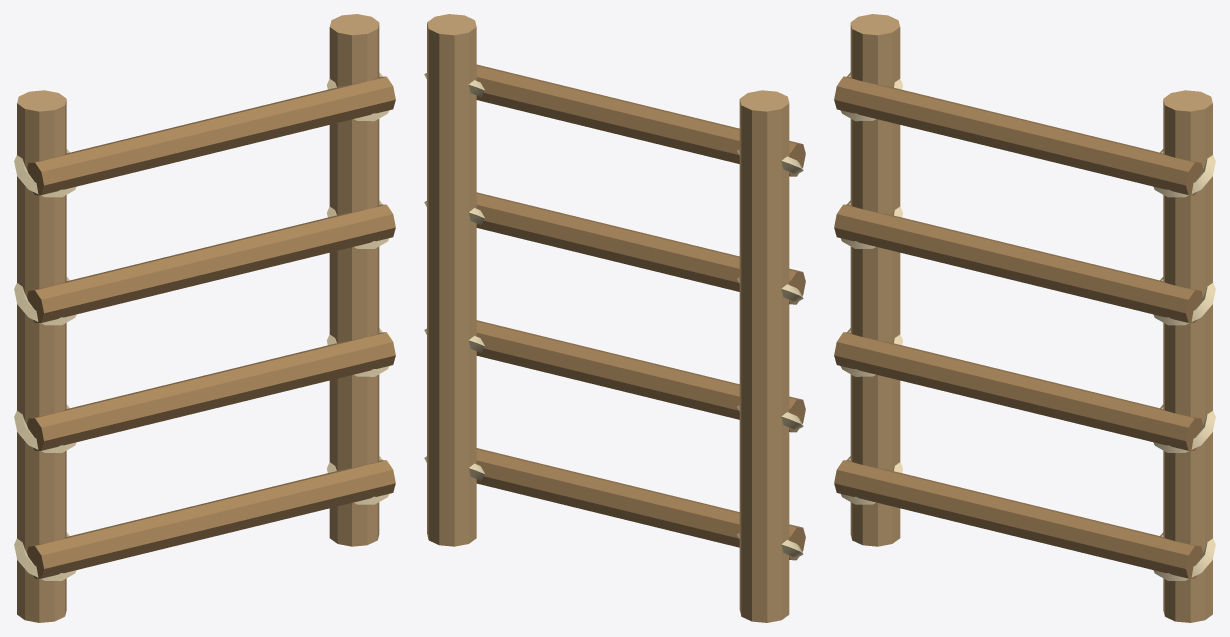
Rendered from ladder.glb.
3 renders of one model, left to right at view 1: azimuth 30°, elevation 25°; view 2: azimuth 150°, elevation 25°; view 3: azimuth 330°, elevation 25°, orthographic.
Parts seen in each view (by area): view 1: ladder; view 2: ladder; view 3: ladder.
Part boxes in pixels (x1,y1,x2,y2): ladder: [14, 14, 395, 622]; ladder: [424, 14, 805, 622]; ladder: [834, 14, 1215, 622].
Bounding box in the file's own units: 0.764 × 1 × 0.122.
